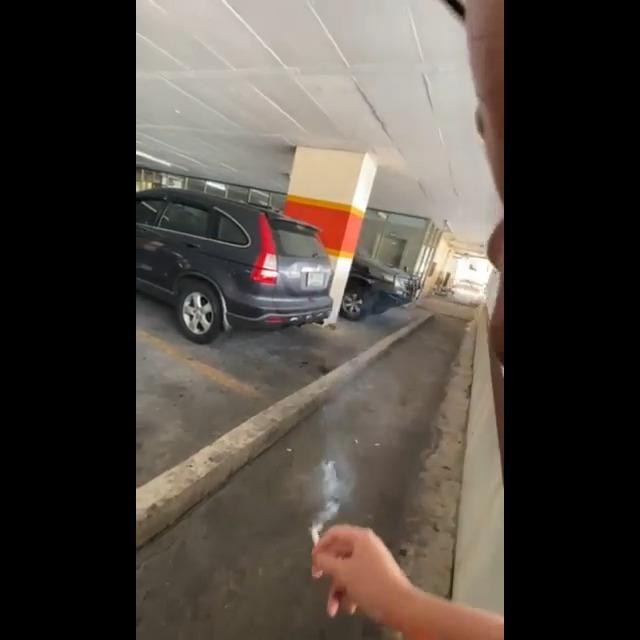rokok: (295, 520, 337, 552)
